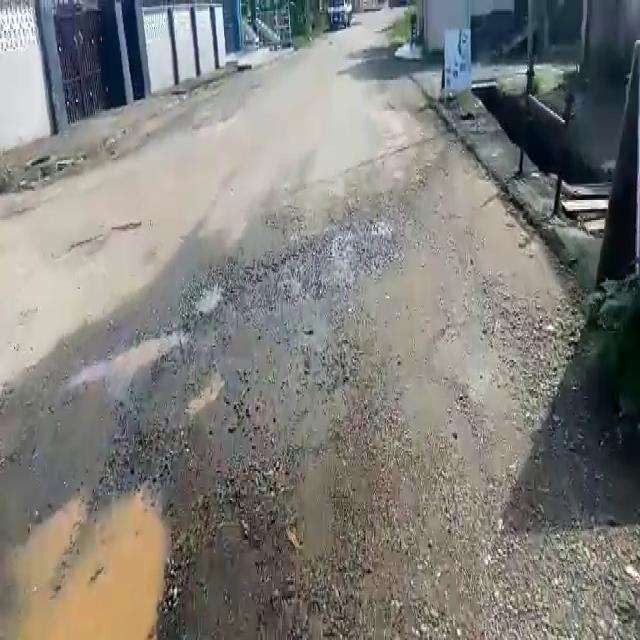Pothole: (12, 488, 174, 636), (189, 278, 223, 320)
